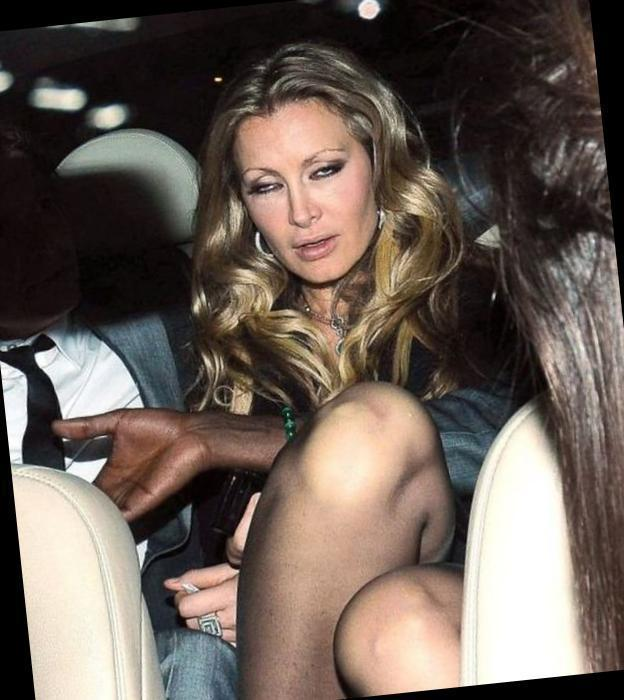Drunk: (233, 109, 370, 271)
